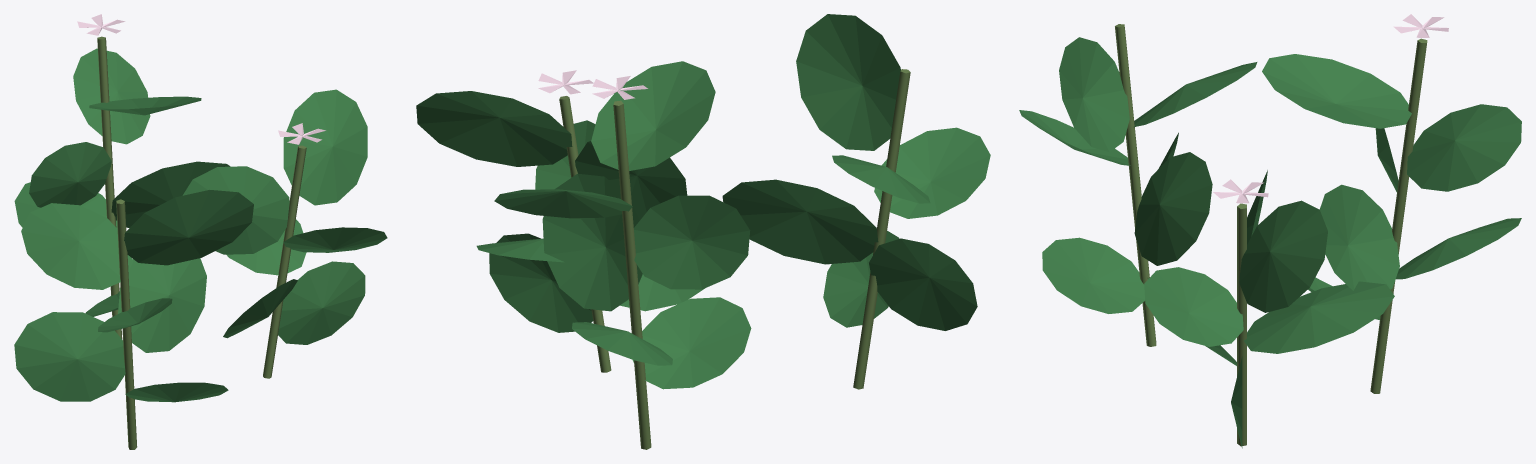
File: catharanthus-roseus.glb
The picture shows the model from 3 angles, left to right: view 1: azimuth 30°, elevation 25°; view 2: azimuth 150°, elevation 25°; view 3: azimuth 270°, elevation 25°; orthographic projection. The views are drawn at different scales.
Visible parts, largest first — view 1: Species leaves, Species stems, Species flowers / bracts; view 2: Species leaves, Species stems, Species flowers / bracts; view 3: Species leaves, Species stems, Species flowers / bracts.
Boxes of the visible parts, x1,y1,x2,y2 form: Species leaves: (14,48,387,402); Species stems: (97,36,306,449); Species flowers / bracts: (77,14,325,144); Species leaves: (416,14,990,389); Species stems: (559,69,910,449); Species flowers / bracts: (538,70,647,99); Species leaves: (1019,37,1521,448); Species stems: (1115,24,1427,446); Species flowers / bracts: (1213,14,1448,203).
Size of the model in its own units: 0.4083 by 0.3013 by 0.3722.
